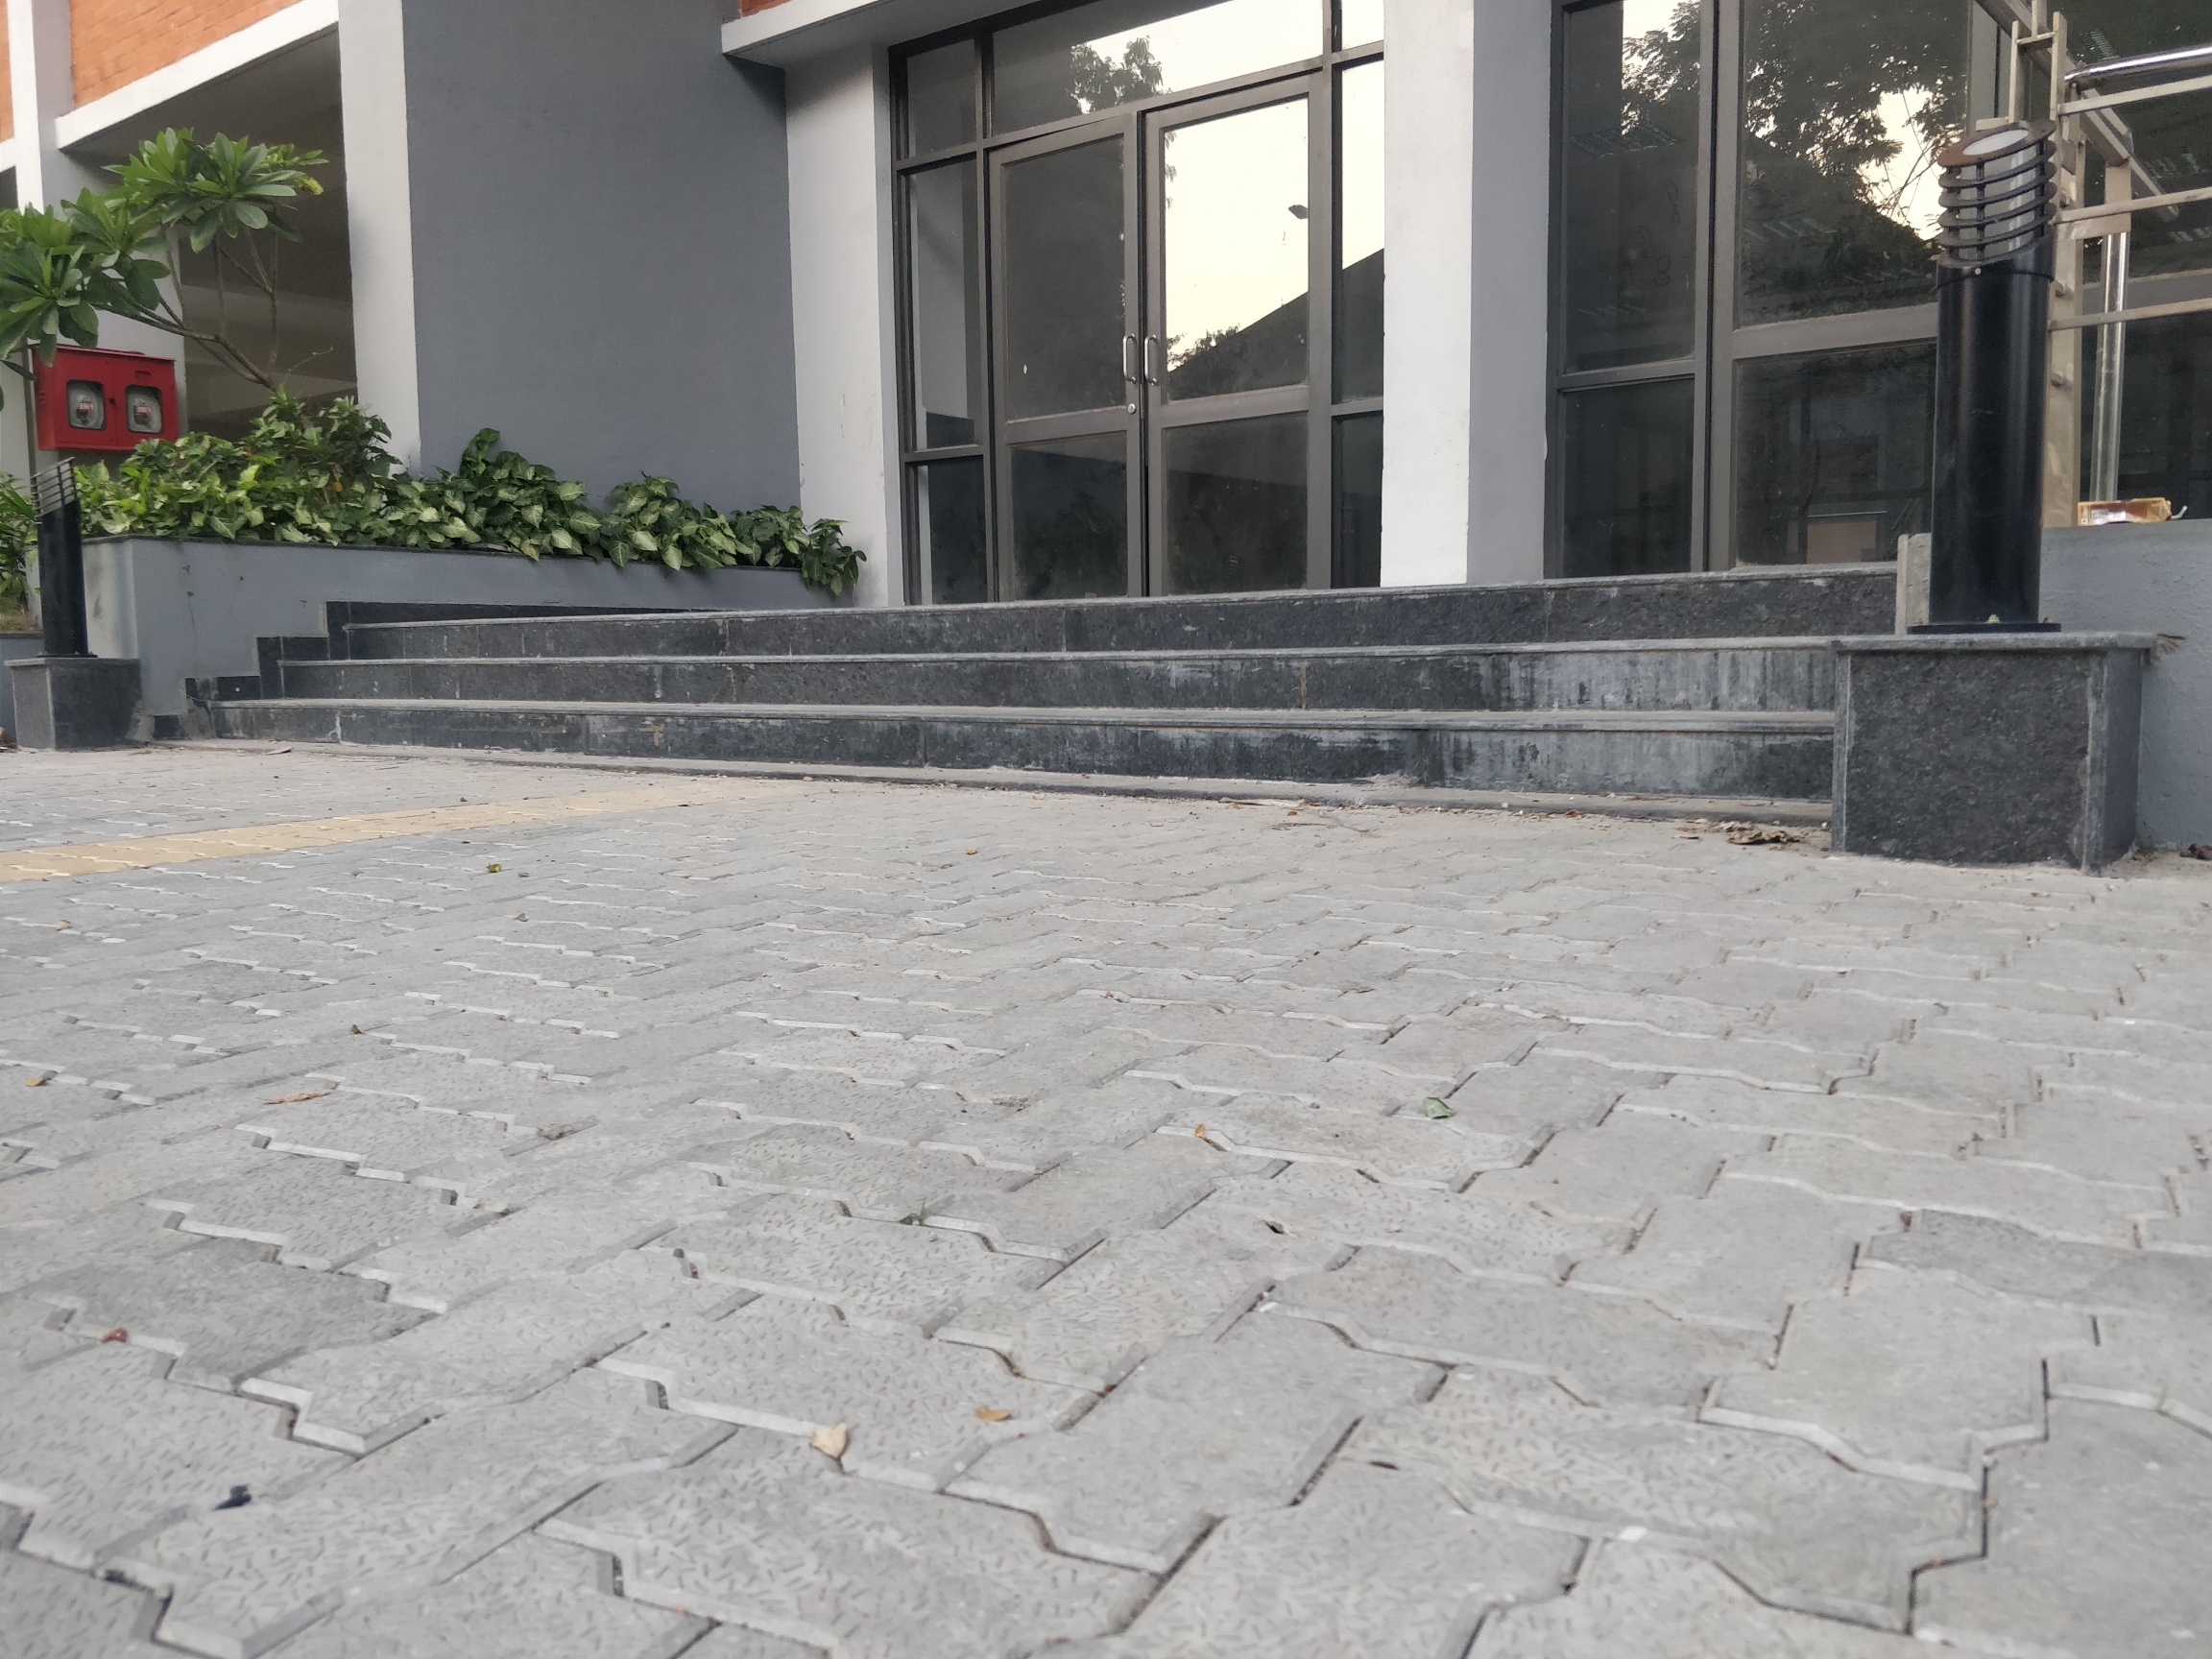stairs_up: (162, 544, 1862, 786)
